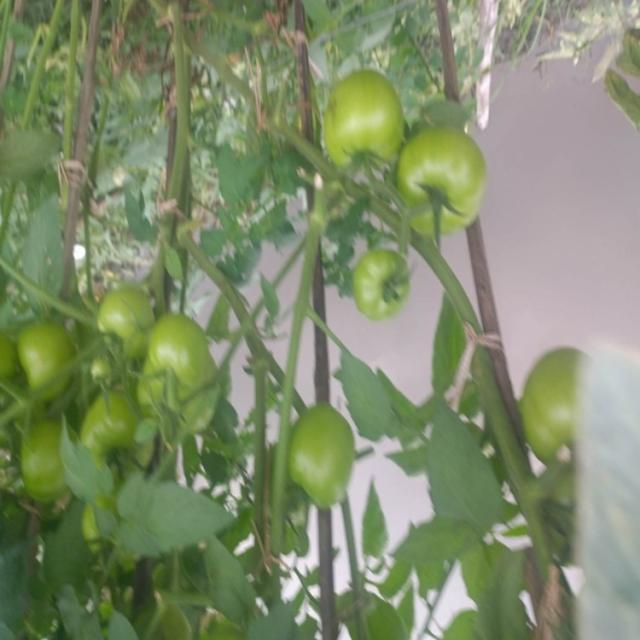tomato: (392, 109, 506, 244), (136, 304, 236, 444), (517, 336, 614, 460), (1, 405, 93, 521), (74, 382, 170, 489), (286, 394, 370, 514), (1, 296, 90, 404), (322, 63, 404, 178), (344, 236, 433, 332), (86, 276, 172, 362)
